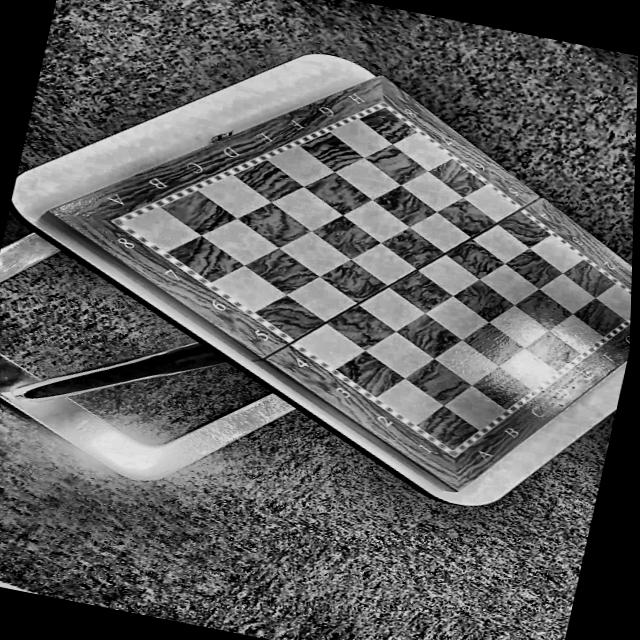chessboard: (121, 106, 631, 450)
